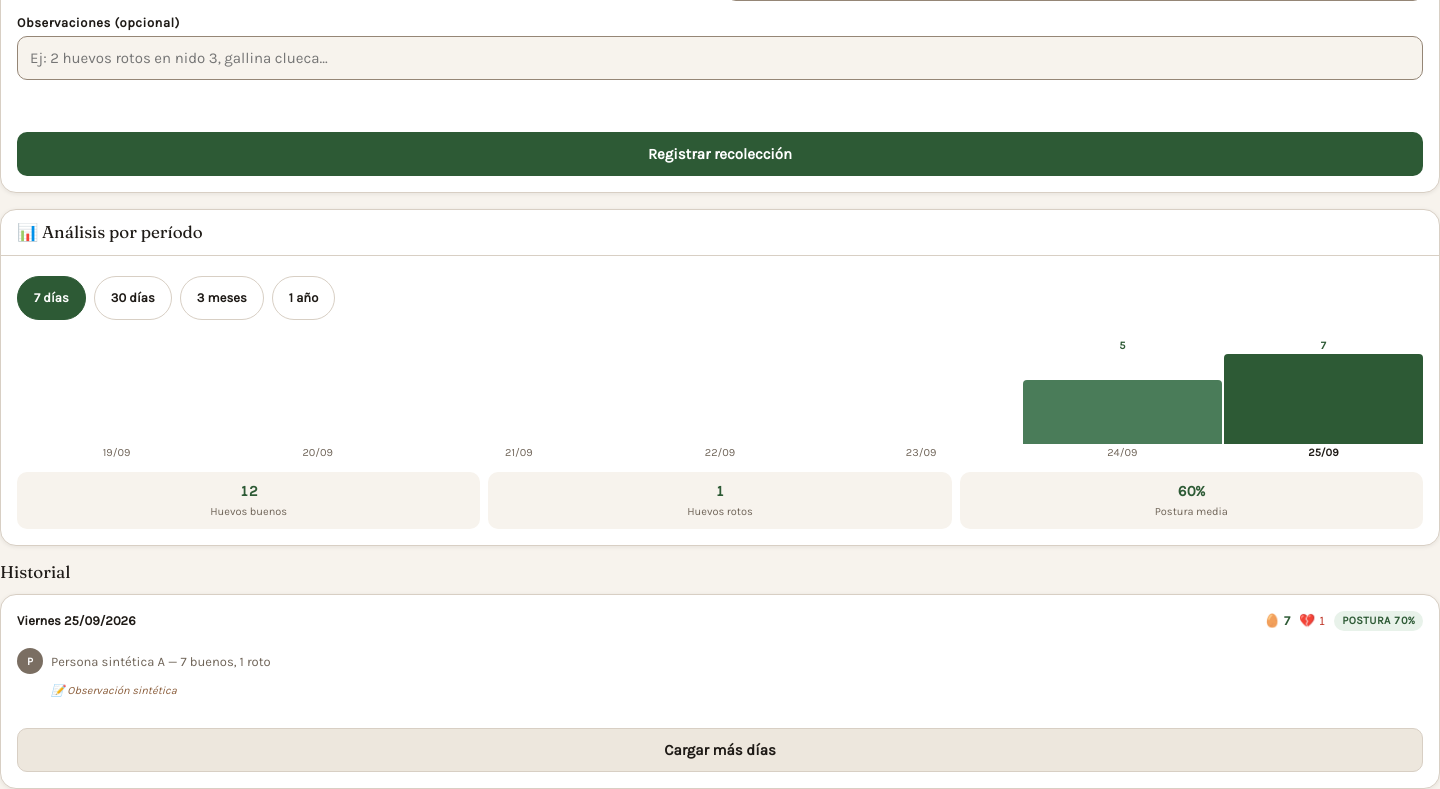
Gallinero — pantalla del prototipo › "Cargar más días" pide la página siguiente del historial
(page scrolled)
Step 1. Click the button "Cargar más días" → [720, 750], box [17,728,1423,772]
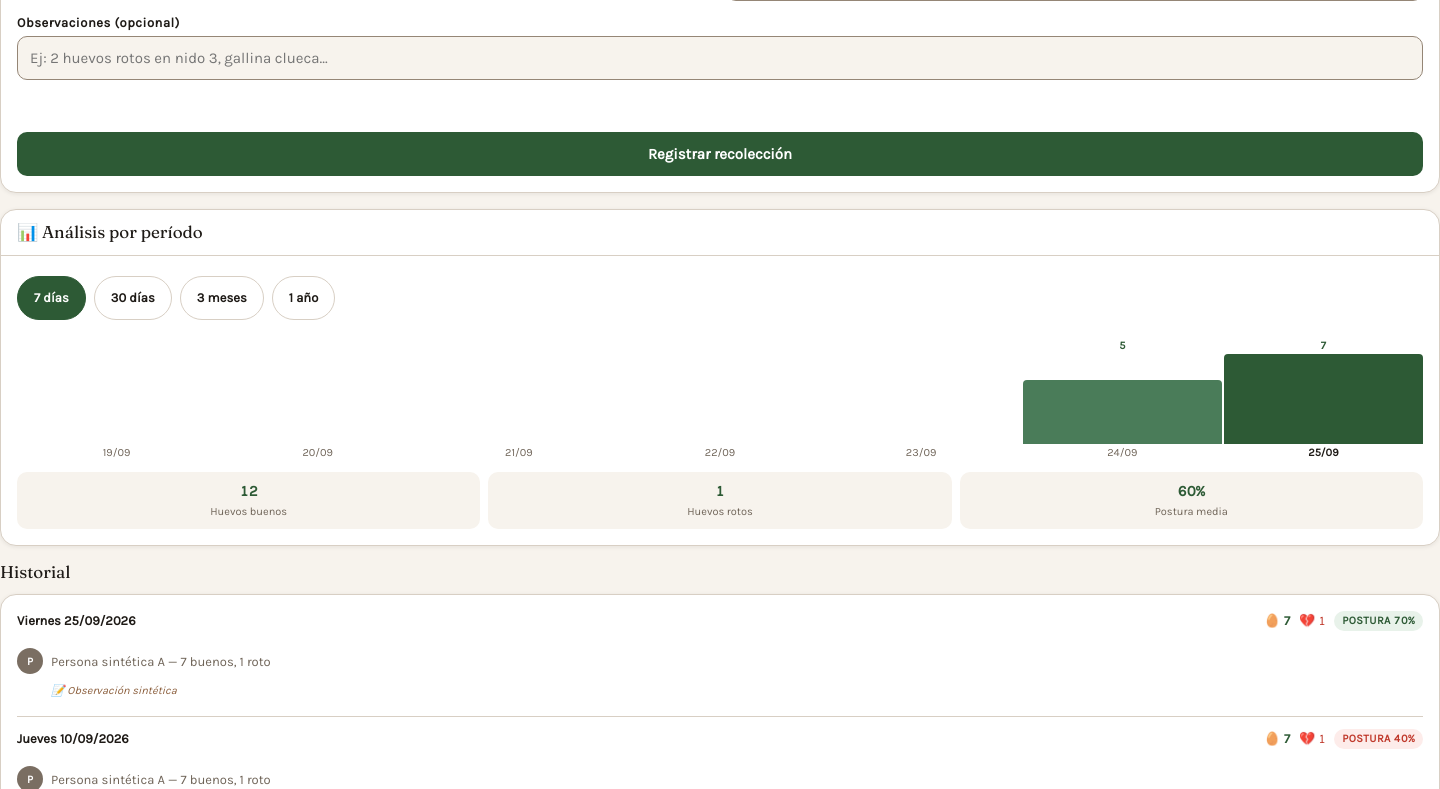
Now the heading "Jueves 10/09/2026" is shown, box [17,731,129,747]
Now the button "Cargar más días" is gone
